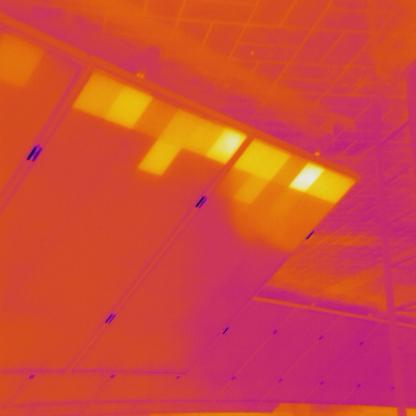hotspot: (71, 69, 121, 121), (106, 86, 154, 138), (135, 137, 180, 177), (284, 159, 324, 199), (234, 172, 271, 214), (206, 126, 244, 164), (313, 172, 355, 204), (258, 146, 286, 180)
